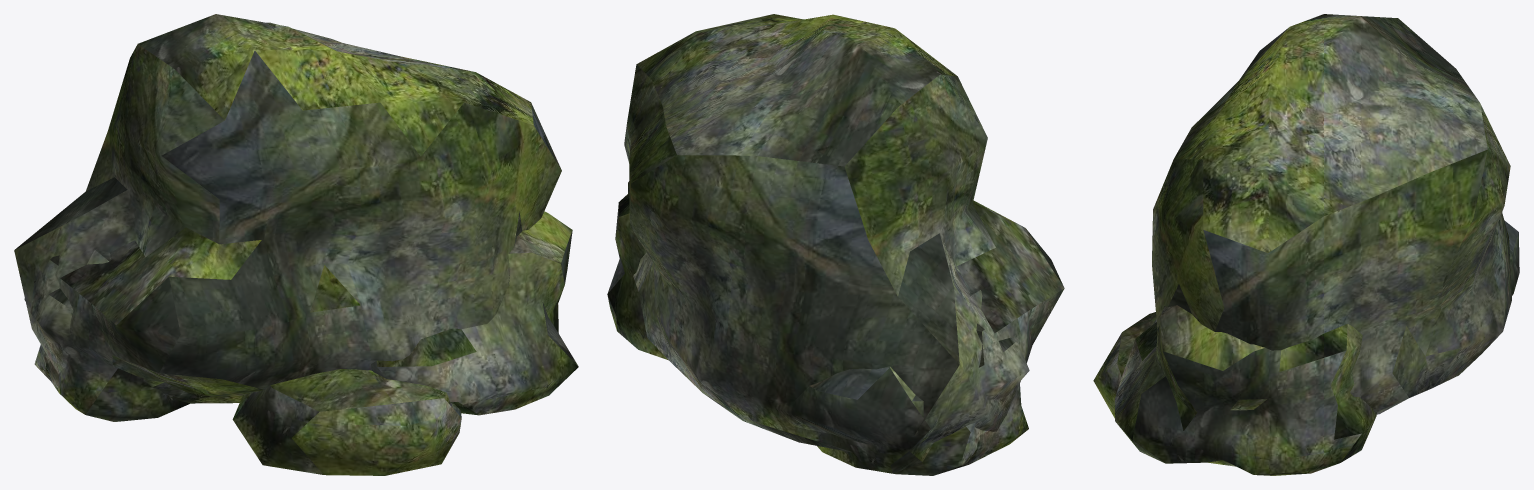
File: rock_cliff_a.glb
3 views of the same model, side by side, from view 1: azimuth 30°, elevation 25°; view 2: azimuth 150°, elevation 25°; view 3: azimuth 270°, elevation 25° (orthographic). The views are drawn at different scales.
Parts seen in each view (by area): view 1: rock_cliff_a; view 2: rock_cliff_a; view 3: rock_cliff_a.
Boxes of the visible parts, left/top/right/bottom form: rock_cliff_a: left=14, top=14, right=578, bottom=475; rock_cliff_a: left=607, top=14, right=1064, bottom=475; rock_cliff_a: left=1093, top=14, right=1519, bottom=475.
Bounding box in the file's own units: 3.91 × 3.2 × 3.32.
Materials: 1 (1 with a texture image).
